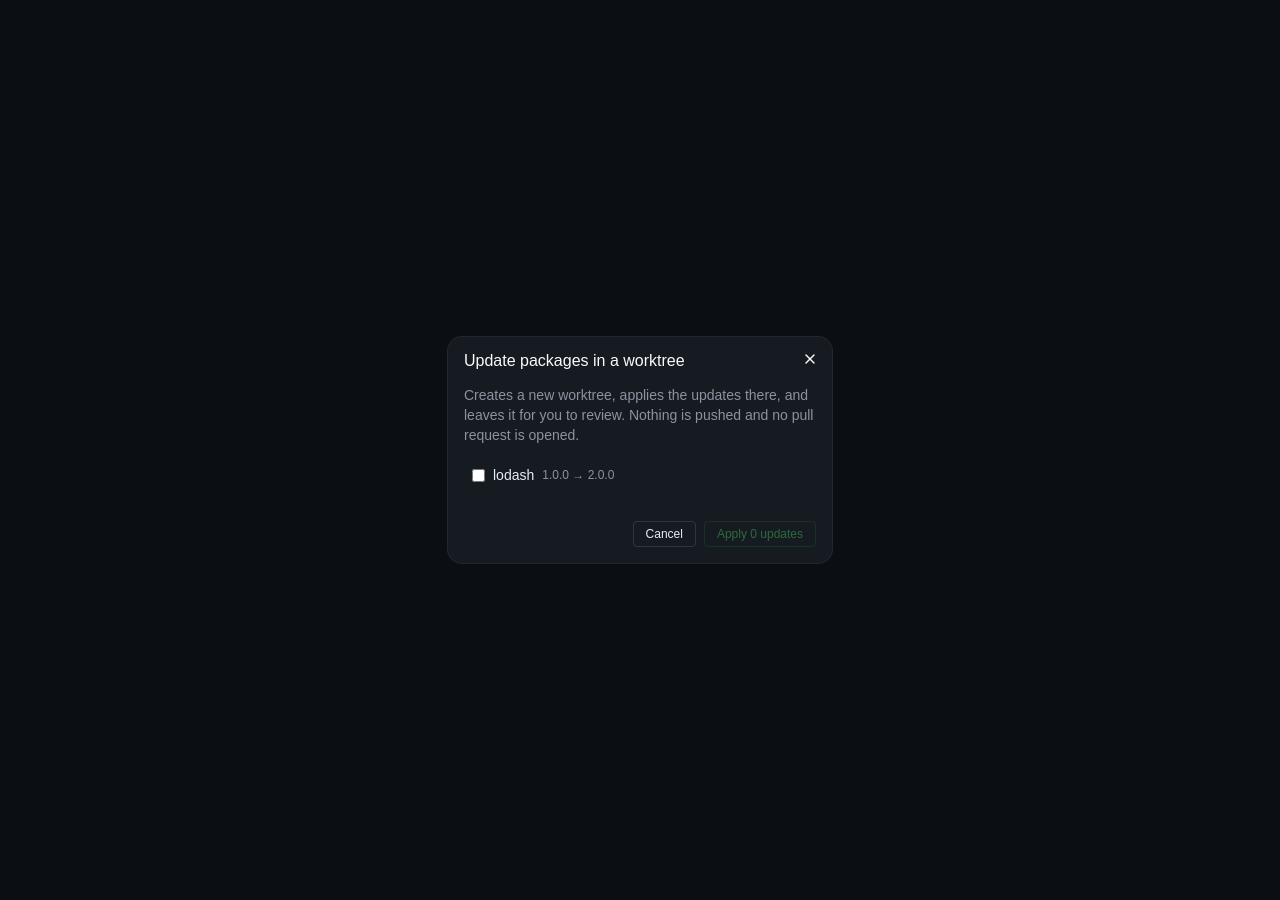
UpdateWizard › states when nothing changed rather than showing an empty list
This screenshot has width=1280, height=900.
Step 1. Click the checkbox → (478, 475), box [472, 468, 485, 482]
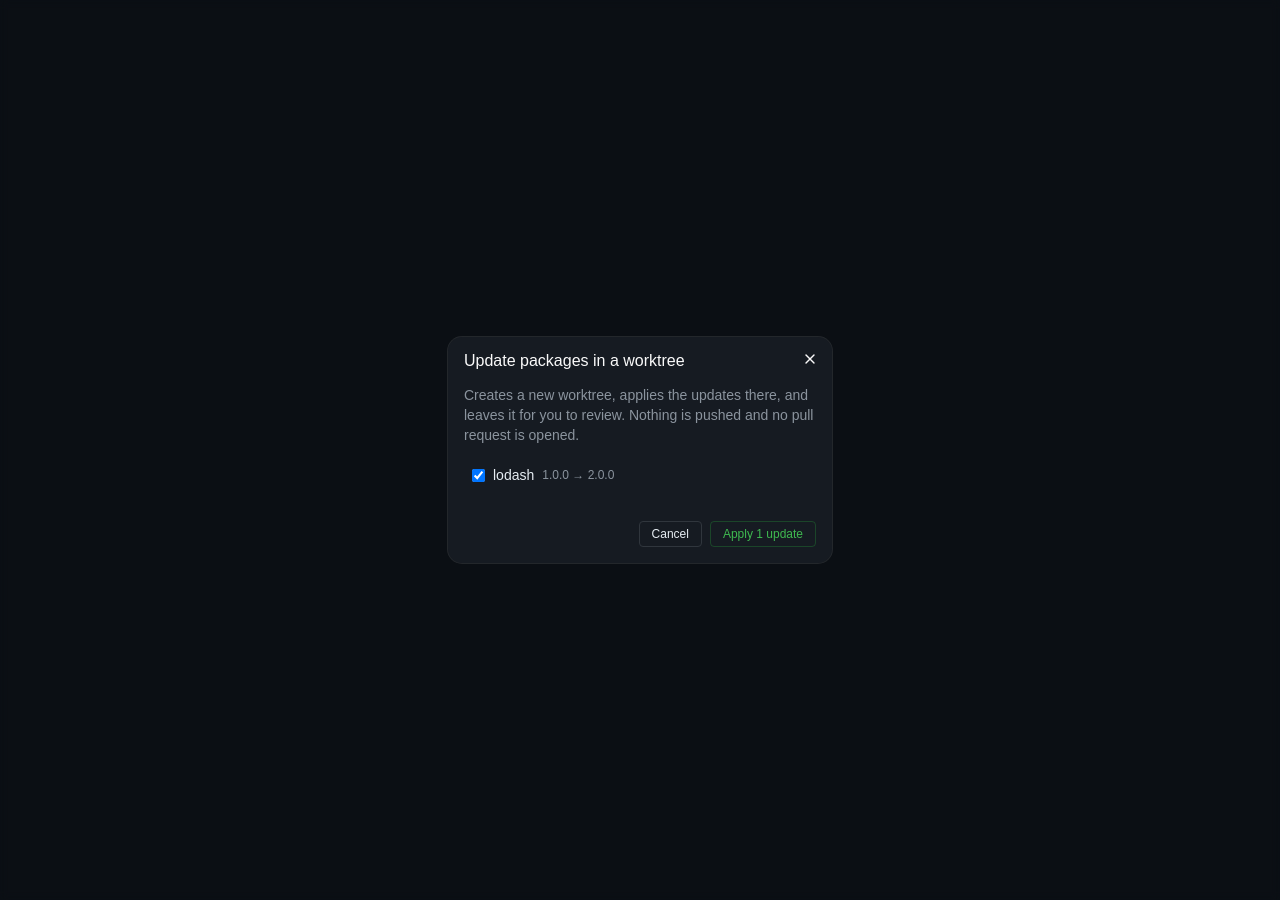
Step 2. Click the button "Apply 1 update" → (763, 534), box [710, 521, 816, 547]
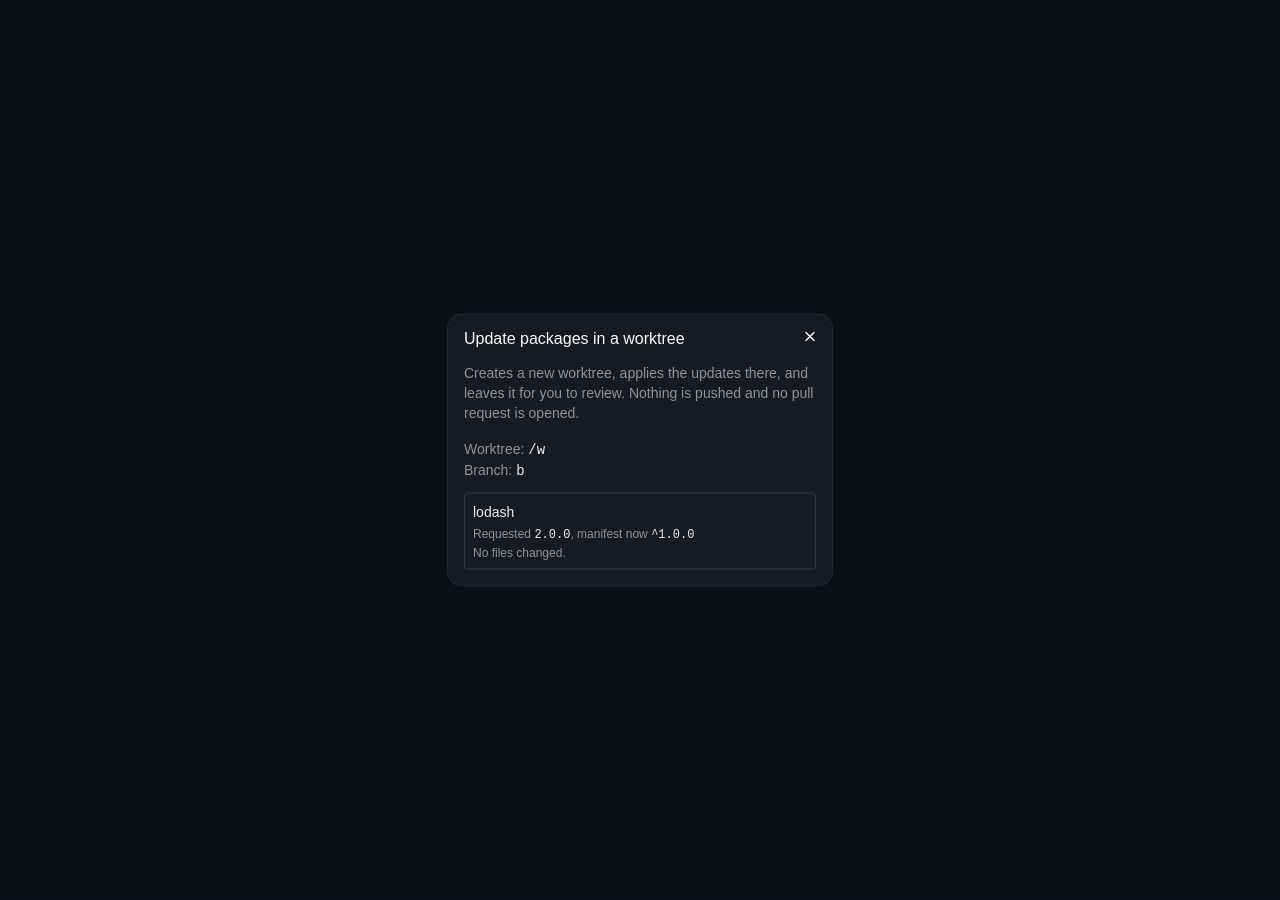
Now the text "No files changed." is shown, box [473, 546, 566, 560]
